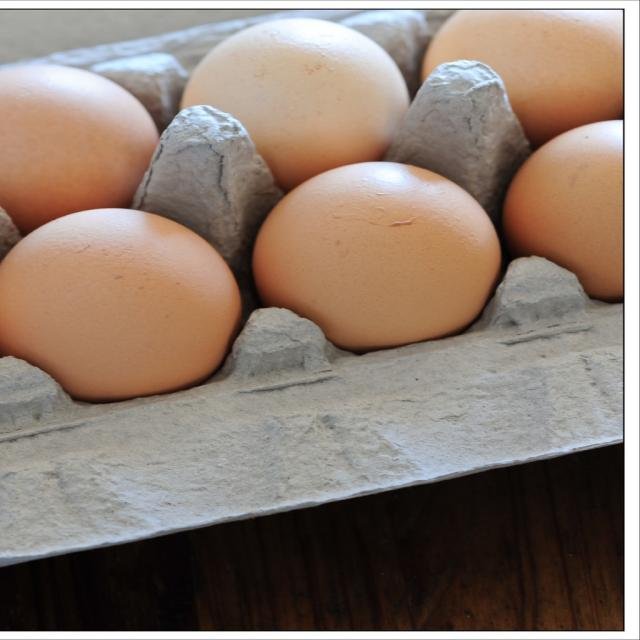Egg: (0, 1, 624, 403), (248, 158, 507, 350), (2, 206, 239, 404)
